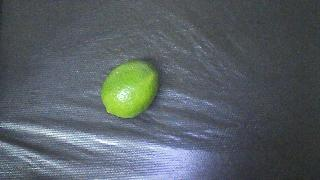LOCAL: (101, 60, 159, 118)
